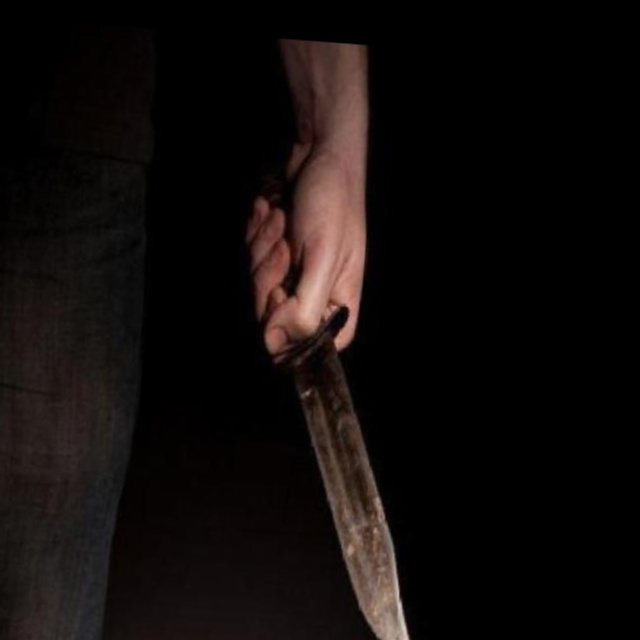Sharp-Object: (221, 170, 449, 640)
